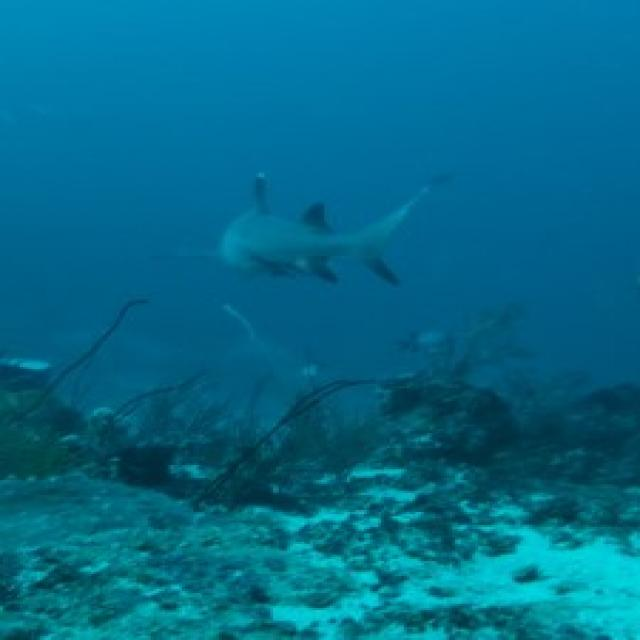Shark: (212, 156, 469, 299)
